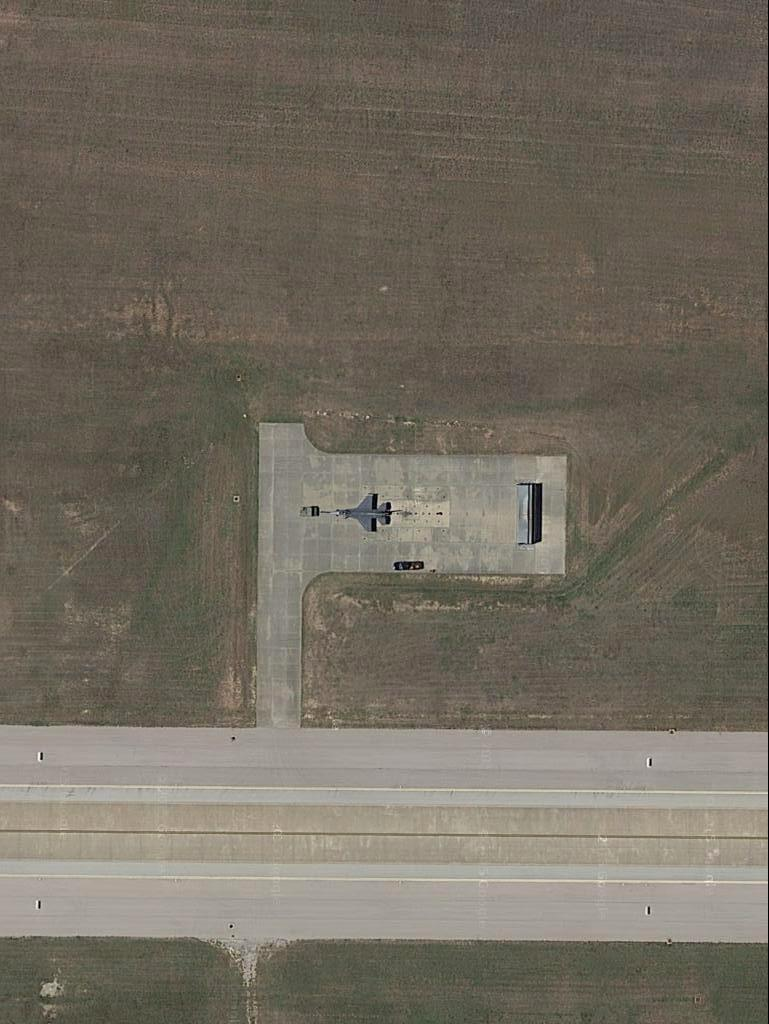F-16: (323, 487, 401, 539)
